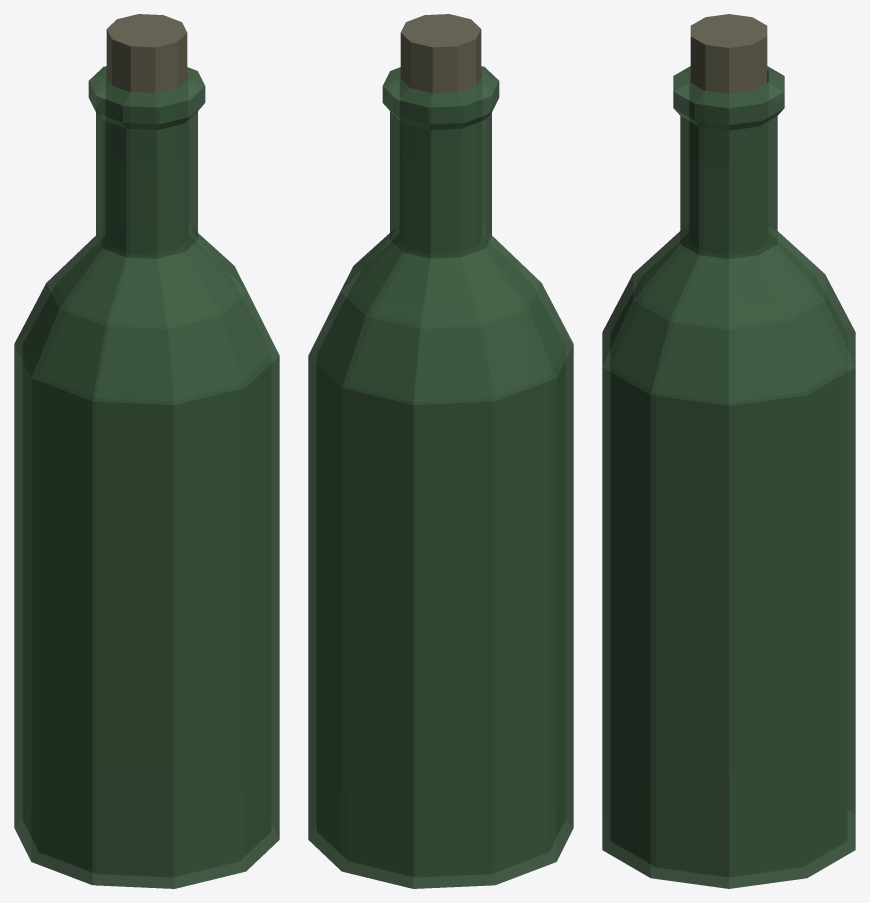
File: TallBottle.fbx
The picture shows the model from 3 angles, left to right: view 1: azimuth 30°, elevation 25°; view 2: azimuth 150°, elevation 25°; view 3: azimuth 270°, elevation 25°; orthographic projection.
Visible parts, largest first — view 1: TallBottle, Cork2; view 2: TallBottle, Cork2; view 3: TallBottle, Cork2.
Part boxes in pixels (<box>): TallBottle: <box>14,66,279,888</box>; Cork2: <box>106,14,187,93</box>; TallBottle: <box>308,66,573,888</box>; Cork2: <box>400,14,481,93</box>; TallBottle: <box>602,66,855,888</box>; Cork2: <box>690,14,767,93</box>.
Bounding box in the file's own units: 2 × 6.64 × 1.9.
